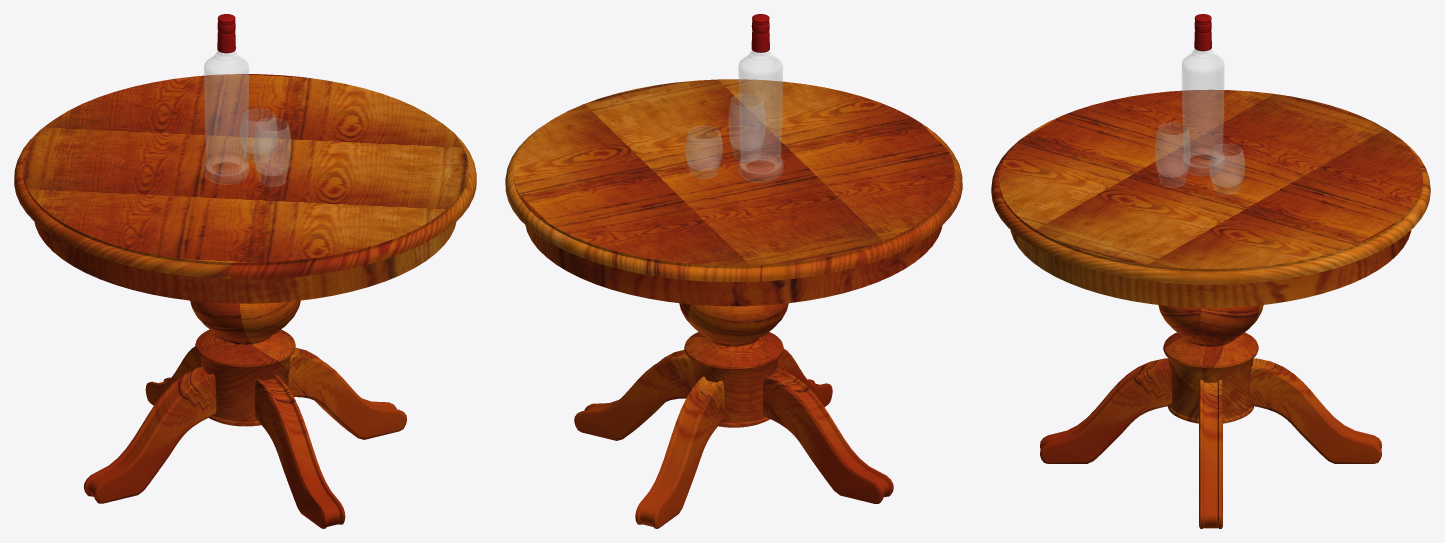
The model's file is table_round.glb.
3 views of the same model, side by side, from view 1: azimuth 30°, elevation 25°; view 2: azimuth 150°, elevation 25°; view 3: azimuth 270°, elevation 25° (orthographic). The views are drawn at different scales.
Parts seen in each view (by area): view 1: TableWood_0003, TableWood_0004, TableWood_0005, Glass_0001, Glass_0003, Glass_0002, BottleCap; view 2: TableWood_0003, TableWood_0004, TableWood_0005, Glass_0001, Glass_0003, Glass_0002, BottleCap; view 3: TableWood_0003, TableWood_0004, TableWood_0005, Glass_0001, Glass_0003, Glass_0002, BottleCap.
Boxes of the visible parts, x1,y1,x2,y2 form: TableWood_0003: [14, 74, 476, 303]; TableWood_0004: [84, 346, 406, 528]; TableWood_0005: [190, 300, 300, 426]; Glass_0001: [204, 51, 249, 184]; Glass_0003: [253, 118, 290, 186]; Glass_0002: [240, 109, 276, 161]; BottleCap: [217, 14, 235, 53]; TableWood_0003: [505, 79, 962, 306]; TableWood_0004: [574, 349, 893, 528]; TableWood_0005: [679, 303, 788, 427]; Glass_0001: [738, 50, 783, 182]; Glass_0003: [728, 95, 764, 159]; Glass_0002: [685, 126, 722, 178]; BottleCap: [751, 14, 769, 52]; TableWood_0003: [991, 89, 1430, 307]; TableWood_0004: [1040, 358, 1381, 528]; TableWood_0005: [1158, 305, 1263, 423]; Glass_0001: [1182, 49, 1224, 175]; Glass_0003: [1155, 122, 1190, 187]; Glass_0002: [1209, 144, 1244, 194]; BottleCap: [1194, 14, 1211, 51].
Size of the model in its own units: 0.8976 by 0.9742 by 0.8976.
3 materials, 3 textured.
